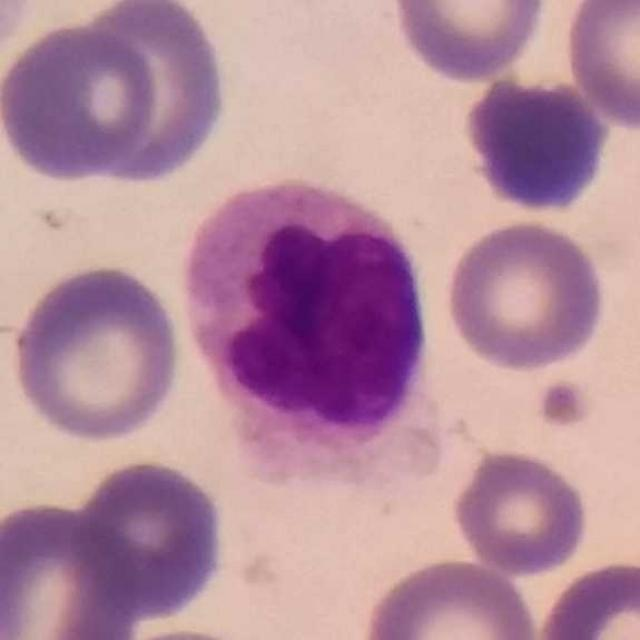mono: (181, 173, 456, 498)
